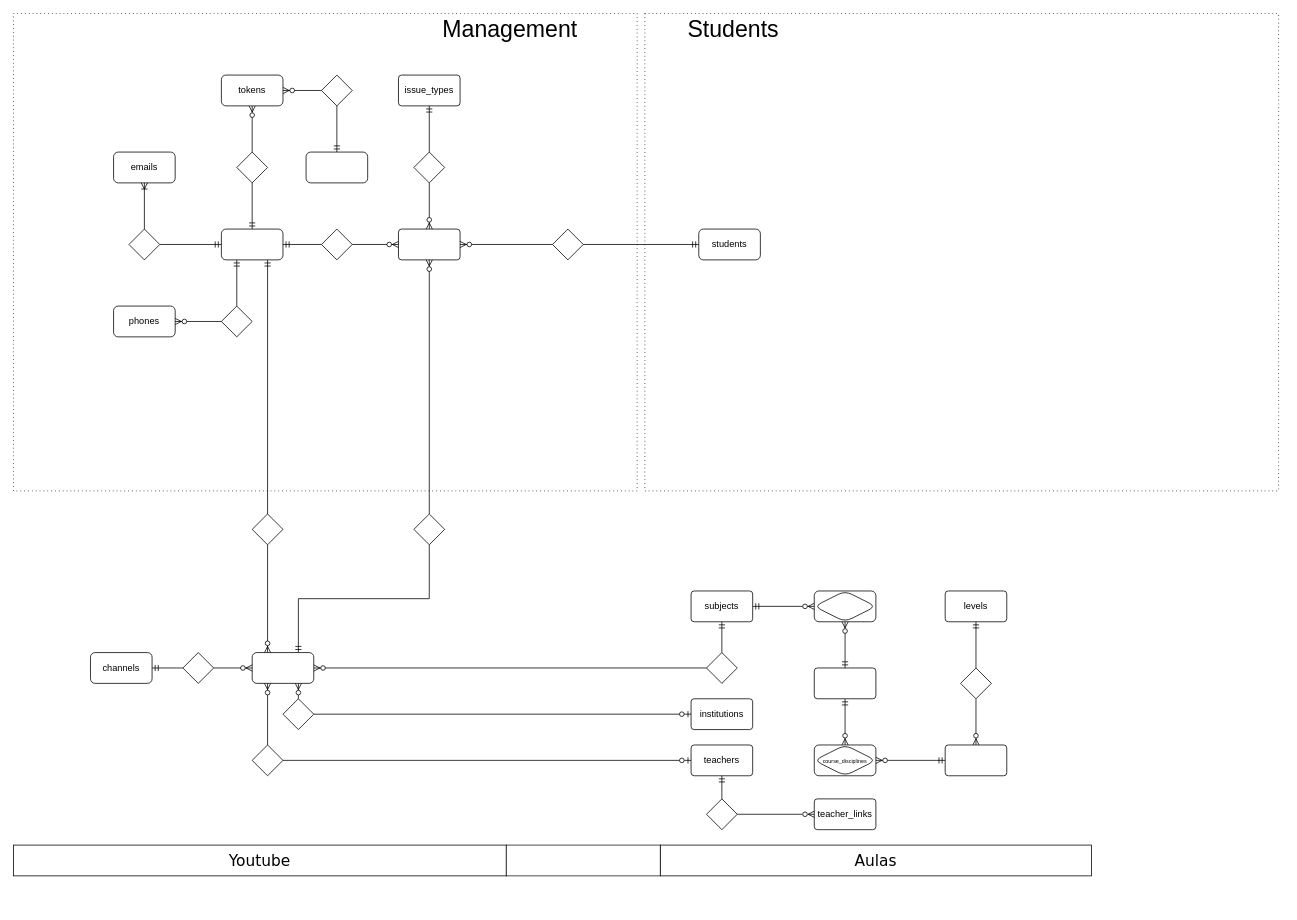
The diagram is 1297 pixels wide and 920 high, and some of its shapes have lost their labels. Each missing label, with the box of its shape:
courses: (944, 744, 1007, 776)
discipline_subjects: (814, 590, 876, 622)
disciplines: (814, 667, 876, 699)
issues: (398, 228, 460, 260)
managers: (221, 228, 283, 260)
token_types: (305, 151, 368, 183)
videos: (251, 652, 314, 683)
